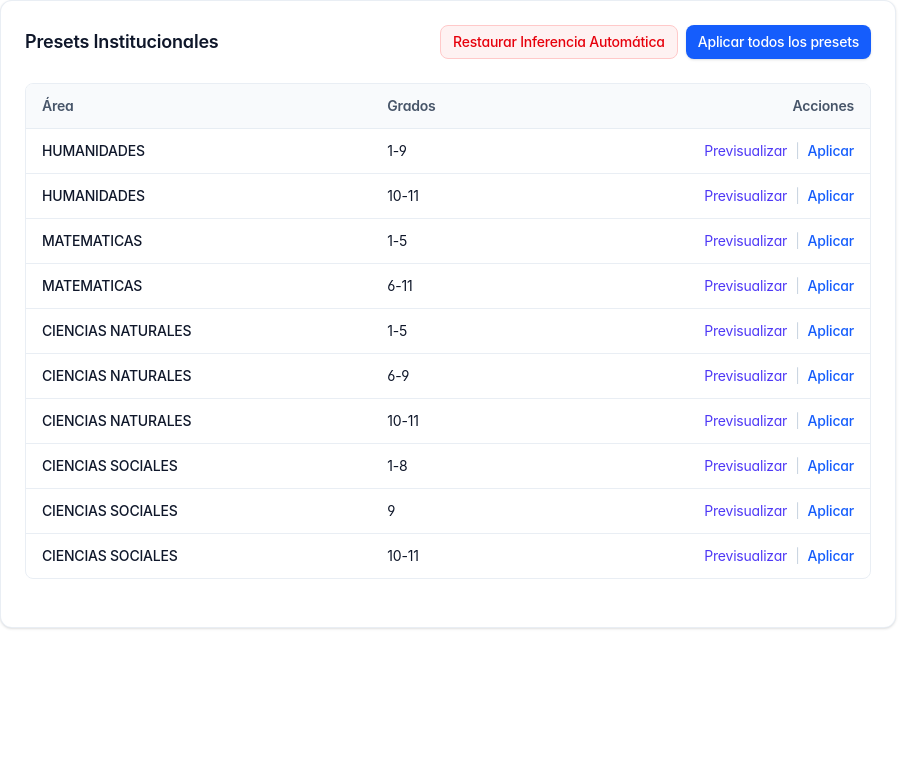
PresetWeightsManager › "Previsualizar" shows weight preview without mutating store
Click the button "Previsualizar" in the row of "1-9" at (746, 151), box [704,141,787,161]
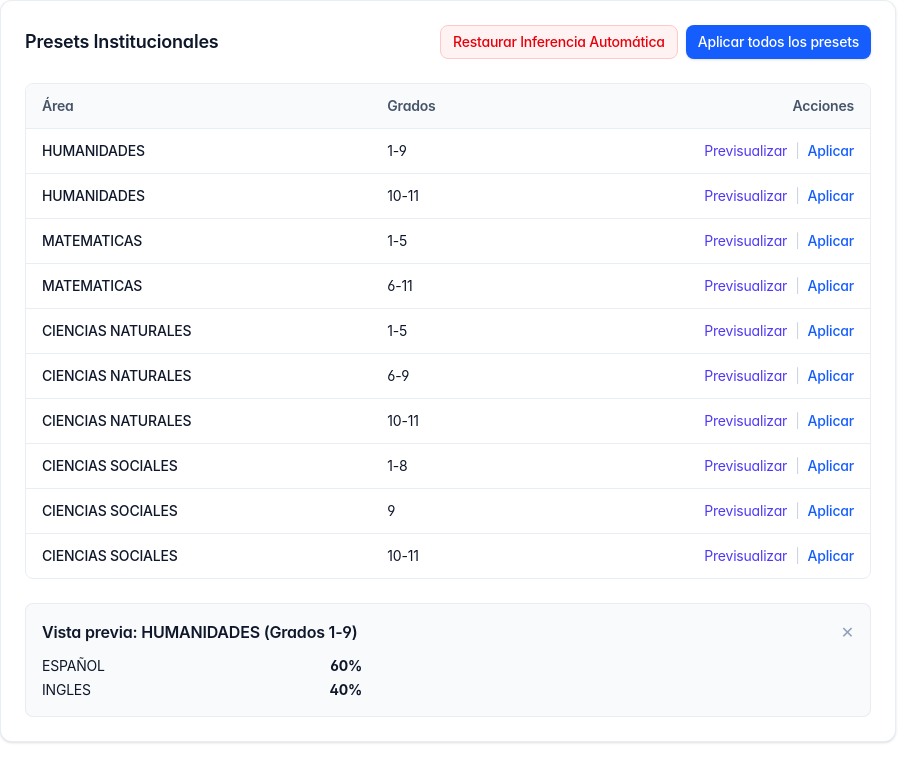
Result: the heading "Vista previa: HUMANIDADES (Grados 1-9)" is shown at [42,620,358,644]
Result: the text "ESPAÑOL" is shown at [42,656,105,676]
Result: the text "60%" is shown at [330,656,362,676]
